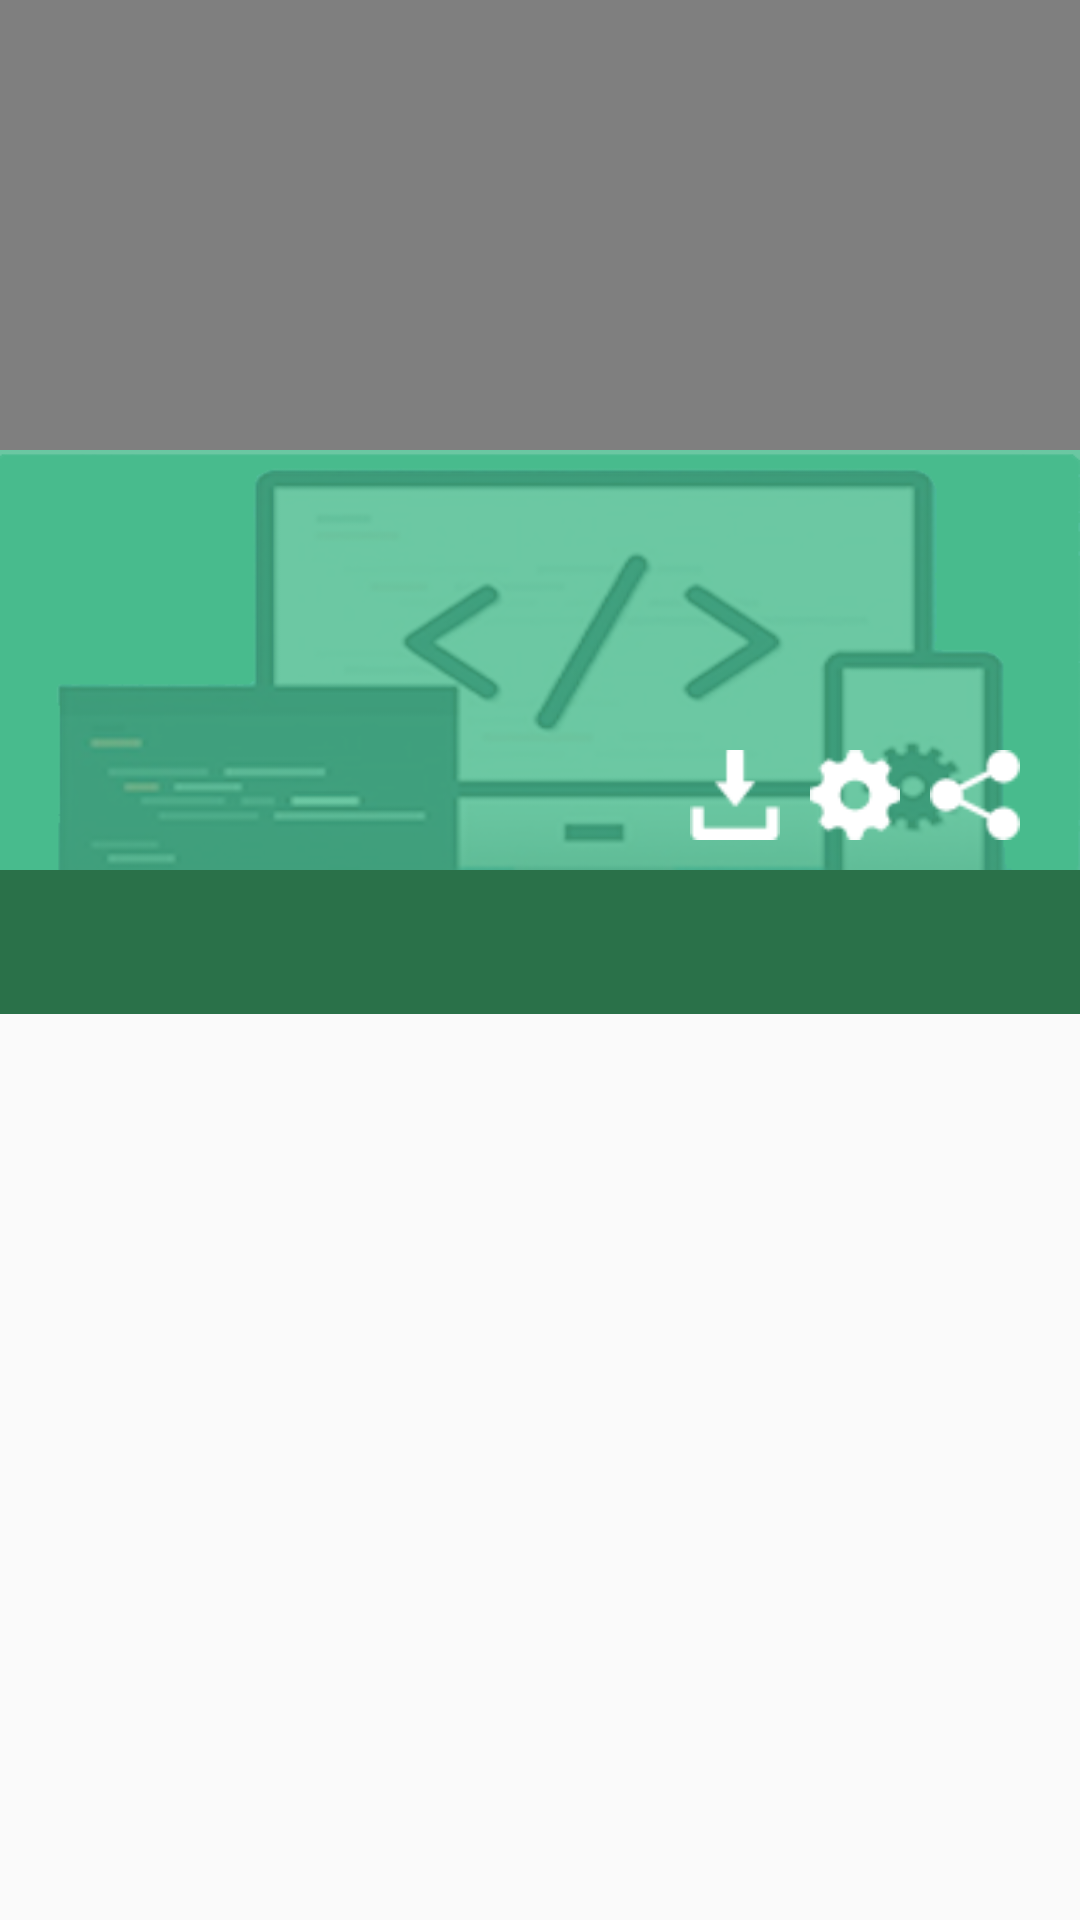

Screen size 1080x1920. Icon name, then its center in pixels as (x,y):
download: (735,795)
setting: (855,795)
share: (975,795)
